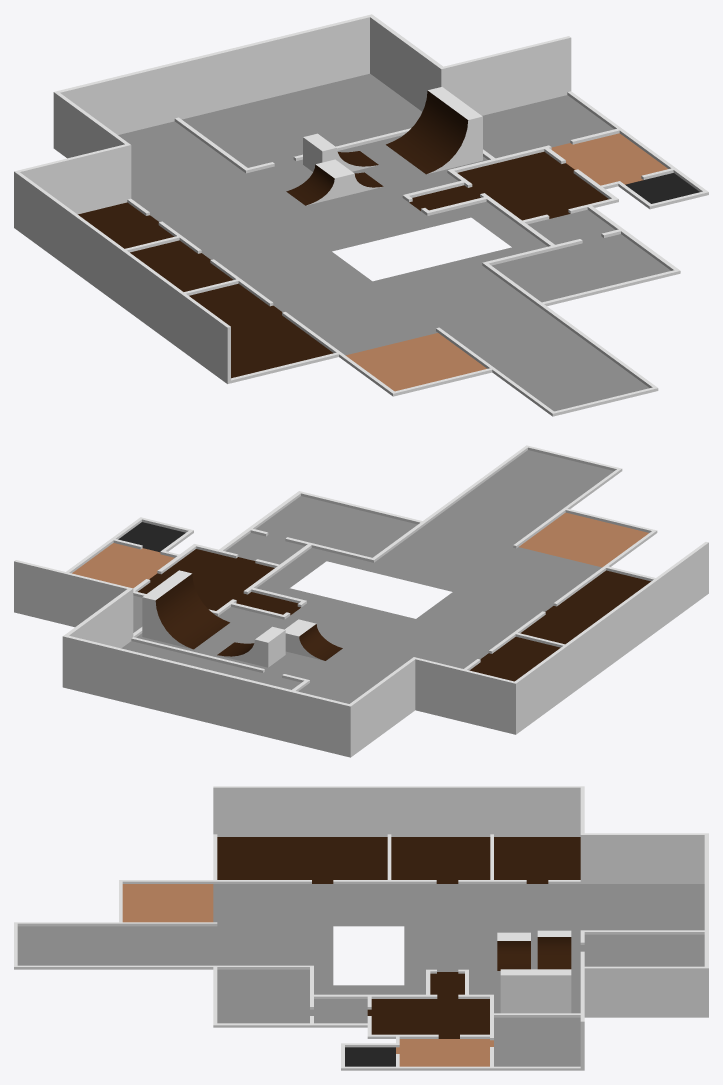
The model's file is Salle_015_b.FBX.
3 renders of one model, top to bottom at view 1: azimuth 30°, elevation 25°; view 2: azimuth 150°, elevation 25°; view 3: azimuth 270°, elevation 25°, orthographic. The views are drawn at different scales.
Visible parts, largest first — view 1: Piece_012, Skate_Parc; view 2: Piece_012, Skate_Parc; view 3: Piece_012, Skate_Parc.
Part boxes in pixels (x1,y1,x2,y2): Piece_012: [14, 14, 708, 416]; Skate_Parc: [286, 87, 482, 205]; Piece_012: [14, 445, 708, 757]; Skate_Parc: [142, 570, 342, 667]; Piece_012: [14, 786, 708, 1070]; Skate_Parc: [497, 930, 571, 1013].
Bounding box in the file's own units: 3085 × 300 × 3847.
